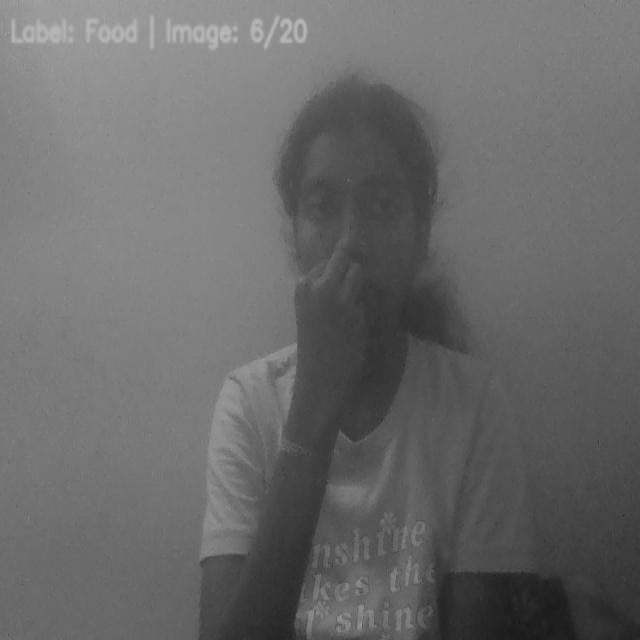Food: (243, 245, 399, 458)
